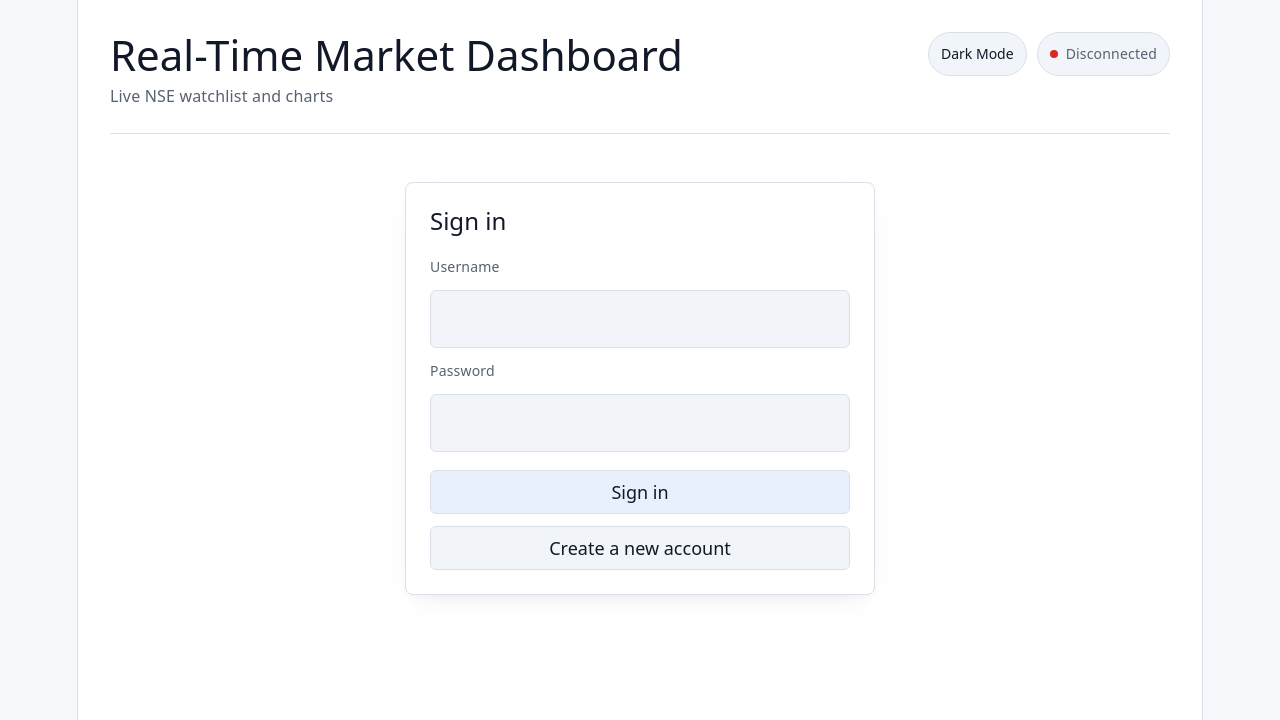
Test: Dashboard › signs in before loading user-owned watchlist data
The image size is (1280, 720).
Expected: the heading "Sign in" is shown, top-left (430, 204), bottom-right (506, 238)
Type "alice" into the field labelled "Username".
click(640, 319); type("alice")  # box top-left (430, 290), bottom-right (850, 348)
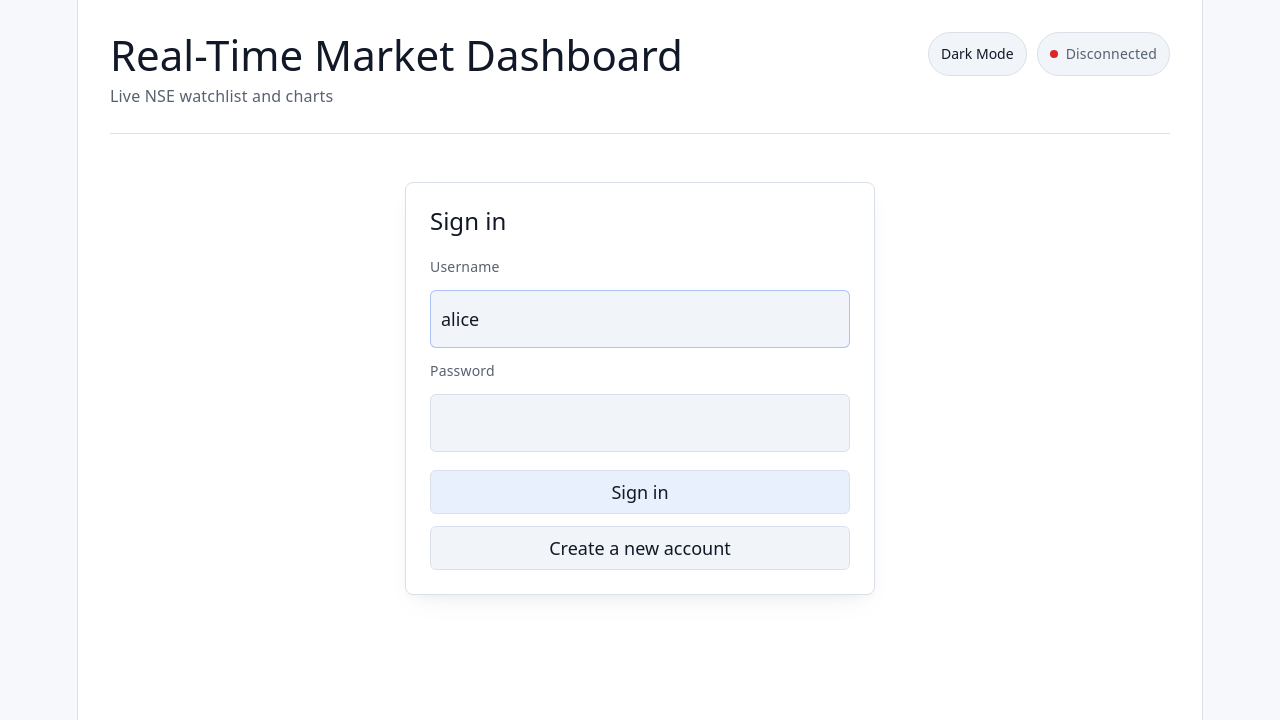
Type "secret1" into the password field labelled "Password".
click(640, 423); type("secret1")  # box top-left (430, 394), bottom-right (850, 452)
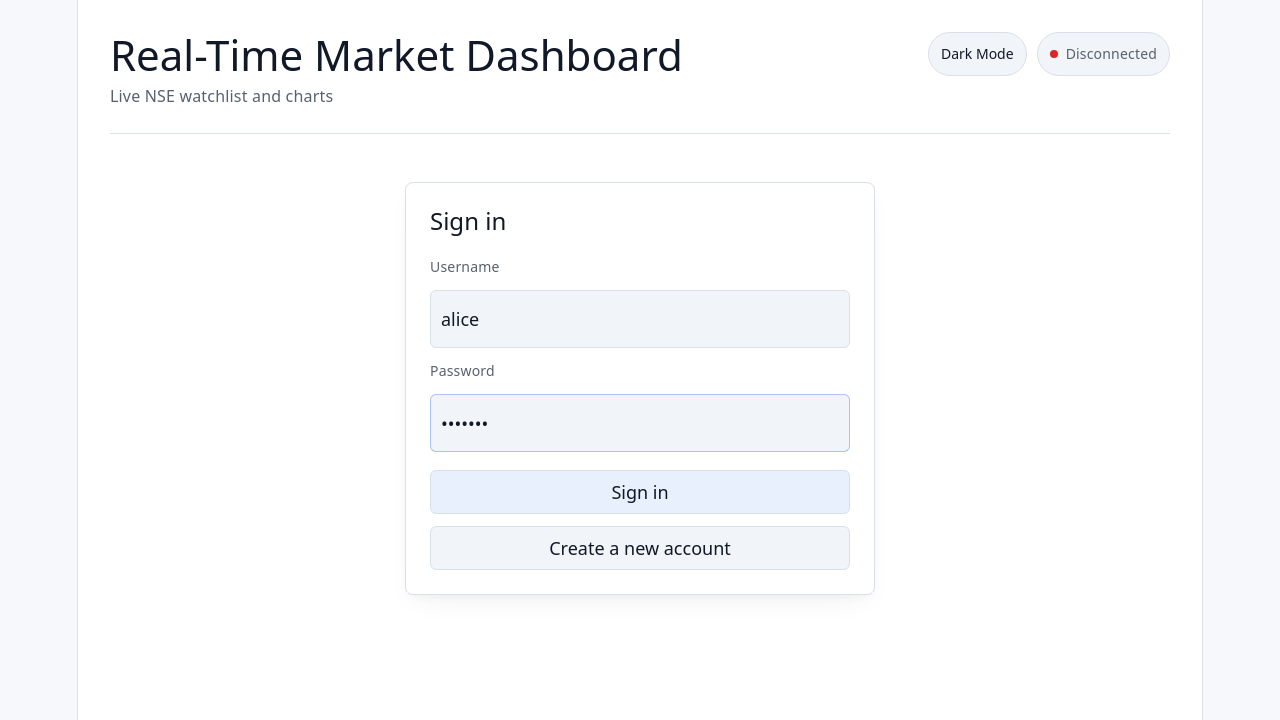
Click the button "Sign in".
click(640, 492)  # box top-left (430, 470), bottom-right (850, 514)
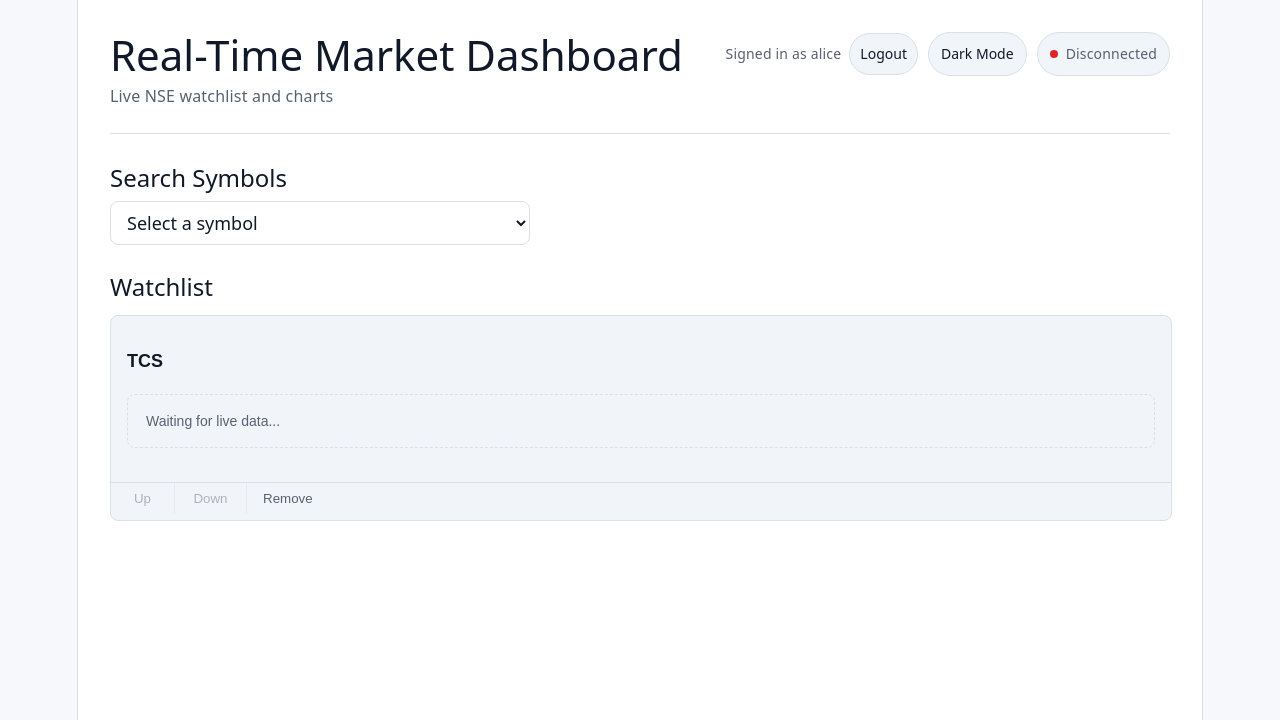
Now the heading "TCS" is shown, box top-left (127, 351), bottom-right (163, 372)
